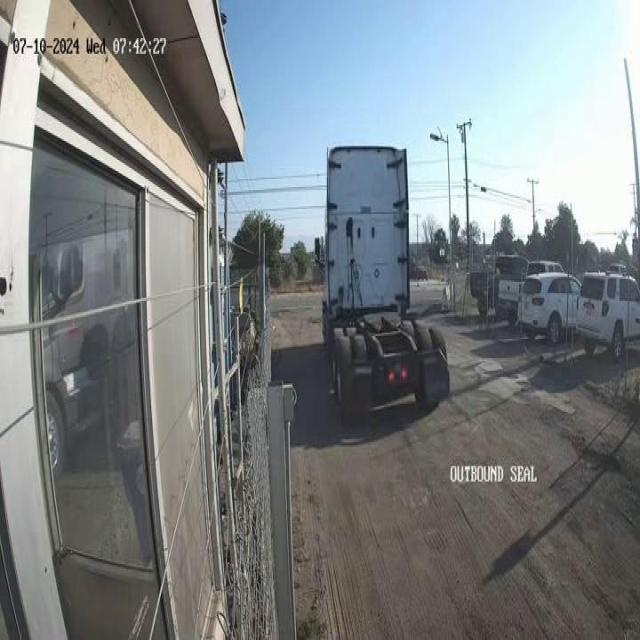TRUCK_OUT: (320, 143, 451, 420)
